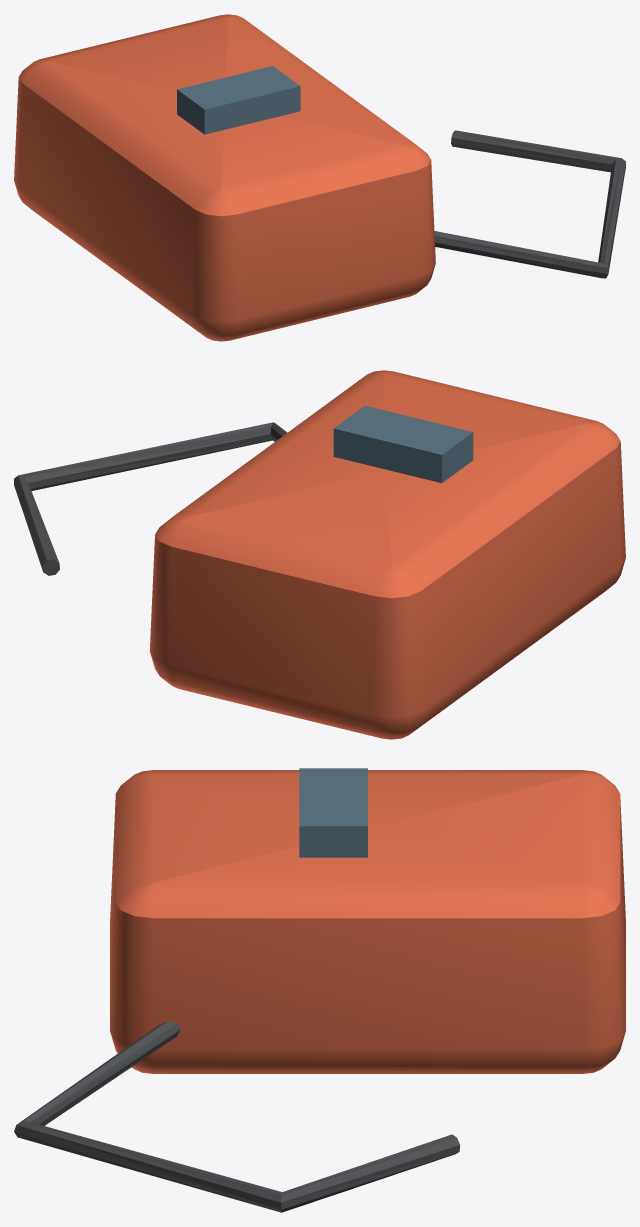
The model's file is motorcycle-racing-and-street-bikes-battery-tender-fa1f902d__15471.glb.
3 renders of one model, top to bottom at view 1: azimuth 30°, elevation 25°; view 2: azimuth 150°, elevation 25°; view 3: azimuth 270°, elevation 25°, orthographic. The views are drawn at different scales.
Visible parts, largest first — view 1: battery-tender; view 2: battery-tender; view 3: battery-tender.
Part boxes in pixels (x1=…): battery-tender: x1=14, y1=14, x2=625, y2=341; battery-tender: x1=14, y1=370, x2=625, y2=739; battery-tender: x1=14, y1=768, x2=625, y2=1212.
Bounding box in the file's own units: 0.4056 × 0.14 × 0.3558.
